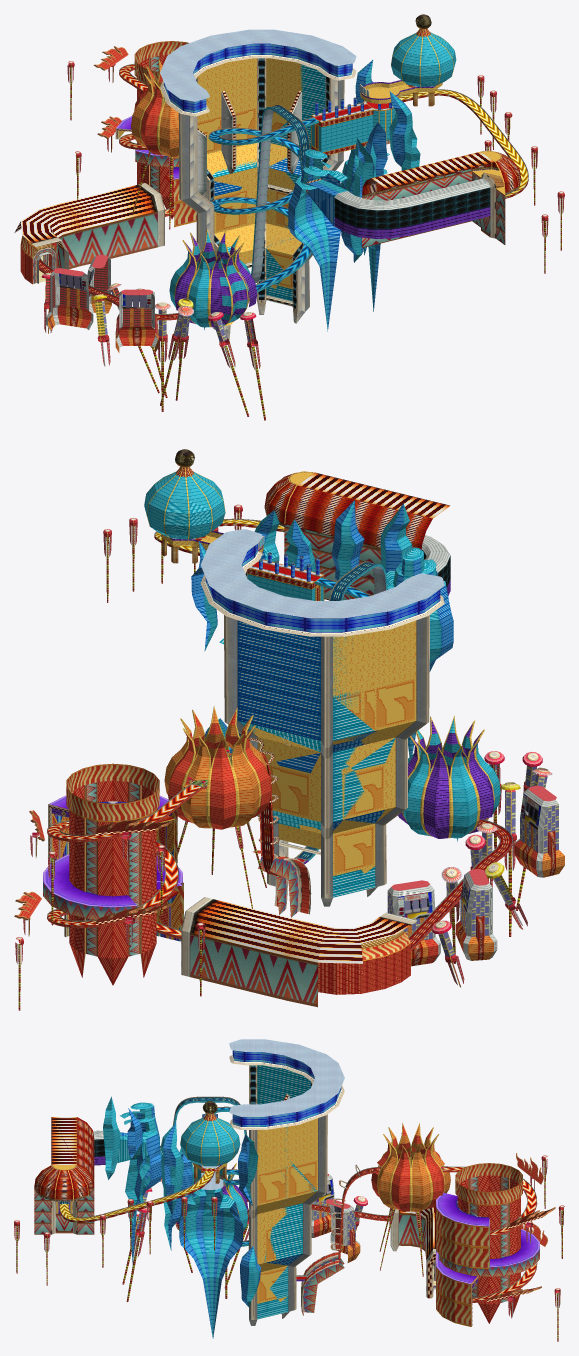
3 views of the same model, one above another, from view 1: azimuth 30°, elevation 25°; view 2: azimuth 150°, elevation 25°; view 3: azimuth 270°, elevation 25° (orthographic). The views are drawn at different scales.
Parts seen in each view (by area): view 1: Casino_SKP__texture115.001, Casino_SKP__texture114.001, Casino_SKP__texture151.001, Casino_SKP__texture104.001, Casino_SKP__texture171.001, Casino_SKP__texture09.001, Casino_SKP__texture103.001, Casino_SKP__texture133.001, Casino_SKP__texture05.001, Casino_SKP__texture110.001, Casino_SKP__texture212.001, Casino_SKP__texture234.001 (+18 smaller); view 2: Casino_SKP__texture115.001, Casino_SKP__texture212.001, Casino_SKP__texture171.001, Casino_SKP__texture151.001, Casino_SKP__texture09.001, Casino_SKP__texture104.001, Casino_SKP__texture114.001, Casino_SKP__texture301.001, Casino_SKP__texture133.001, Casino_SKP__texture10.001, Casino_SKP__texture15.001, Casino_SKP__texture110.001 (+18 smaller); view 3: Casino_SKP__texture115.001, Casino_SKP__texture171.001, Casino_SKP__texture212.001, Casino_SKP__texture231.001, Casino_SKP__texture151.001, Casino_SKP__texture114.001, Casino_SKP__texture133.001, Casino_SKP__texture09.001, Casino_SKP__texture10.001, Casino_SKP__texture301.001, Casino_SKP__texture15.001, Casino_SKP__texture104.001 (+14 smaller).
Boxes of the visible parts, x1=… form: Casino_SKP__texture115.001: x1=169, y1=32, x2=456, y2=330; Casino_SKP__texture114.001: x1=163, y1=58, x2=505, y2=288; Casino_SKP__texture151.001: x1=32, y1=55, x2=495, y2=339; Casino_SKP__texture104.001: x1=14, y1=90, x2=494, y2=247; Casino_SKP__texture171.001: x1=204, y1=60, x2=411, y2=331; Casino_SKP__texture09.001: x1=56, y1=56, x2=505, y2=269; Casino_SKP__texture103.001: x1=37, y1=67, x2=562, y2=369; Casino_SKP__texture133.001: x1=160, y1=29, x2=433, y2=101; Casino_SKP__texture05.001: x1=175, y1=80, x2=490, y2=327; Casino_SKP__texture110.001: x1=44, y1=29, x2=562, y2=370; Casino_SKP__texture212.001: x1=39, y1=48, x2=367, y2=345; Casino_SKP__texture234.001: x1=334, y1=187, x2=490, y2=229; Casino_SKP__texture115.001: x1=144, y1=471, x2=500, y2=897; Casino_SKP__texture212.001: x1=19, y1=561, x2=537, y2=985; Casino_SKP__texture171.001: x1=191, y1=500, x2=453, y2=830; Casino_SKP__texture151.001: x1=48, y1=536, x2=444, y2=976; Casino_SKP__texture09.001: x1=85, y1=524, x2=381, y2=1007; Casino_SKP__texture104.001: x1=49, y1=472, x2=449, y2=963; Casino_SKP__texture114.001: x1=189, y1=472, x2=416, y2=873; Casino_SKP__texture301.001: x1=269, y1=676, x2=416, y2=876; Casino_SKP__texture133.001: x1=172, y1=529, x2=444, y2=618; Casino_SKP__texture10.001: x1=62, y1=467, x2=555, y2=966; Casino_SKP__texture15.001: x1=61, y1=709, x2=564, y2=966; Casino_SKP__texture110.001: x1=19, y1=466, x2=540, y2=987; Casino_SKP__texture115.001: x1=103, y1=1065, x2=317, y2=1338; Casino_SKP__texture171.001: x1=110, y1=1106, x2=302, y2=1337; Casino_SKP__texture212.001: x1=247, y1=1125, x2=551, y2=1323; Casino_SKP__texture231.001: x1=436, y1=1163, x2=522, y2=1326; Casino_SKP__texture151.001: x1=51, y1=1055, x2=489, y2=1326; Casino_SKP__texture114.001: x1=53, y1=1118, x2=442, y2=1301; Casino_SKP__texture133.001: x1=201, y1=1039, x2=344, y2=1189; Casino_SKP__texture09.001: x1=34, y1=1175, x2=509, y2=1302; Casino_SKP__texture10.001: x1=34, y1=1113, x2=355, y2=1261; Casino_SKP__texture301.001: x1=257, y1=1159, x2=317, y2=1303; Casino_SKP__texture15.001: x1=319, y1=1125, x2=450, y2=1262; Casino_SKP__texture104.001: x1=51, y1=1094, x2=542, y2=1325.
Bounding box in the file's own units: 67008 × 58082 × 94160.
Materials: 74 (74 with a texture image).
